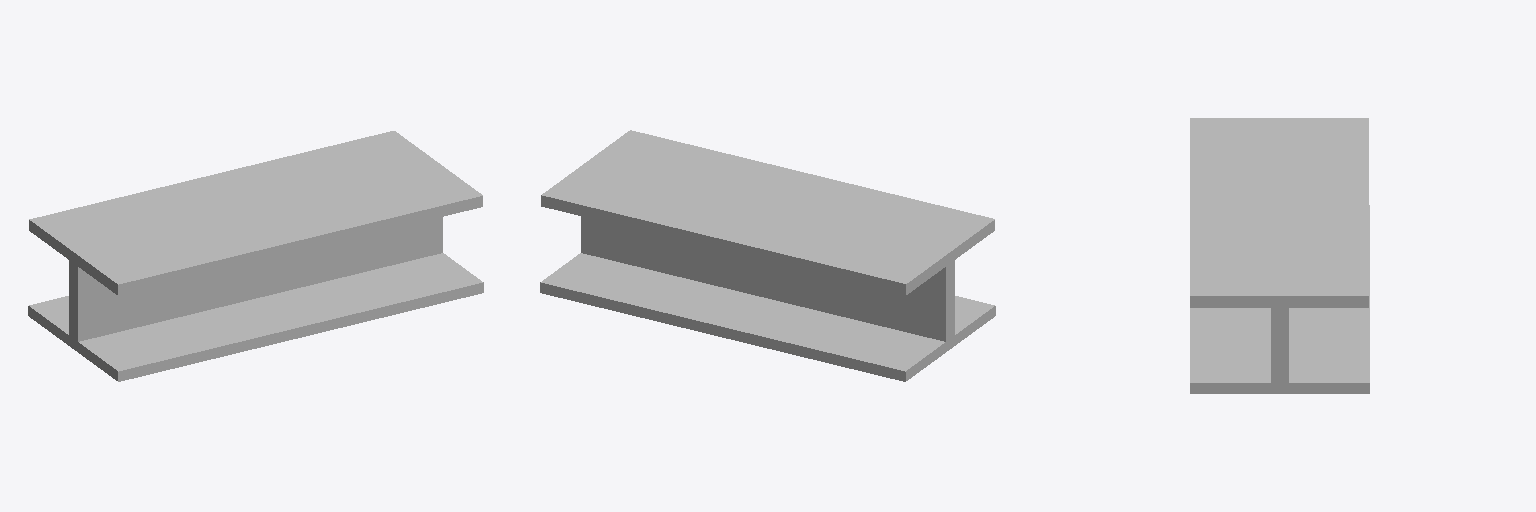
The model's file is table.obj.
The picture shows the model from 3 angles: view 1: azimuth 30°, elevation 25°; view 2: azimuth 150°, elevation 25°; view 3: azimuth 270°, elevation 25°; orthographic projection.
Parts seen in each view (by area): view 1: Cube_Cube.001; view 2: Cube_Cube.001; view 3: Cube_Cube.001.
Part boxes in pixels (x1,y1,x2,y2): Cube_Cube.001: (28,131,483,381); Cube_Cube.001: (540,130,995,381); Cube_Cube.001: (1190,118,1369,393).
Size of the model in its own units: 2.84 by 0.7237 by 1.22.